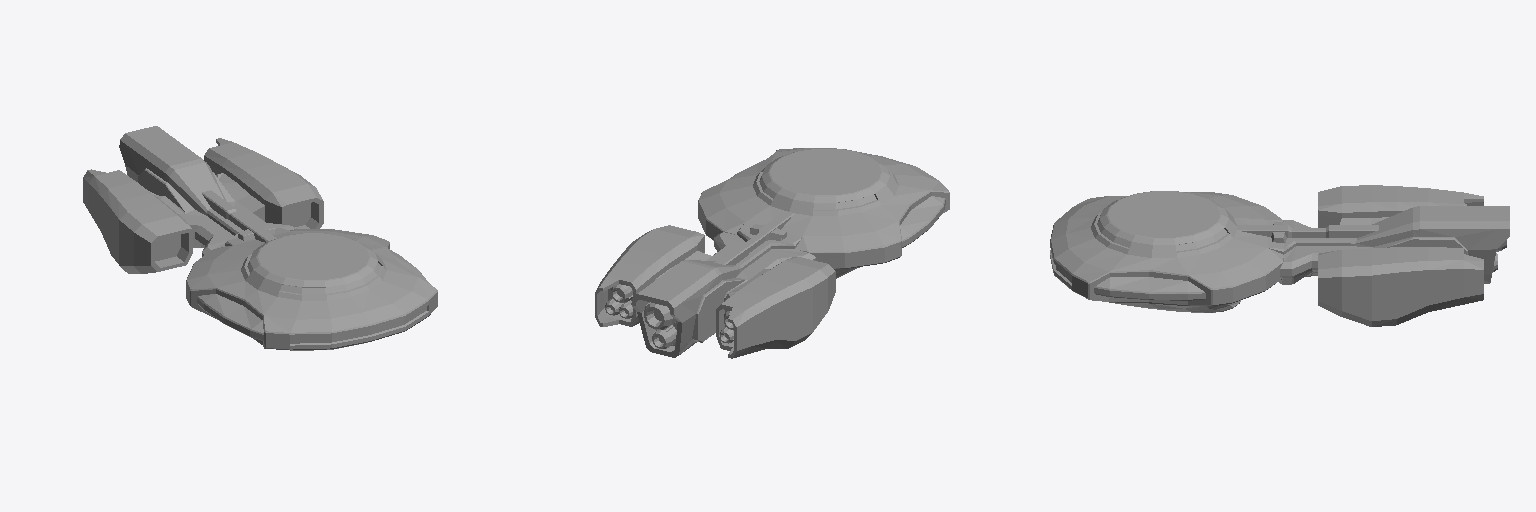
The model's file is artemis2.obj.
3 renders of one model, left to right at view 1: azimuth 30°, elevation 25°; view 2: azimuth 150°, elevation 25°; view 3: azimuth 270°, elevation 25°, orthographic.
Bounding box in the file's own units: 292 × 119 × 583.